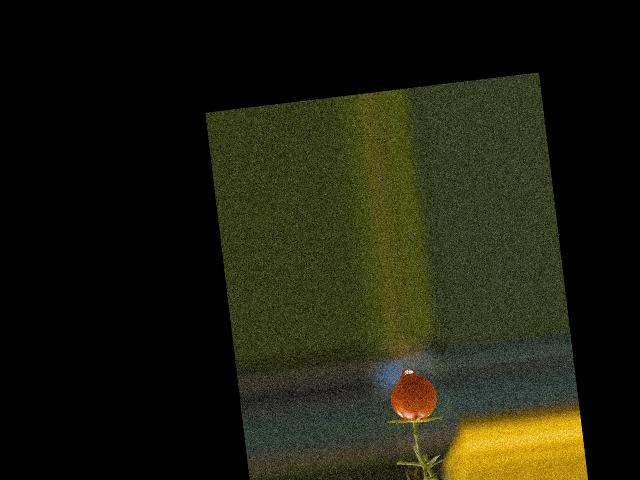tomato: (387, 372, 438, 423)
